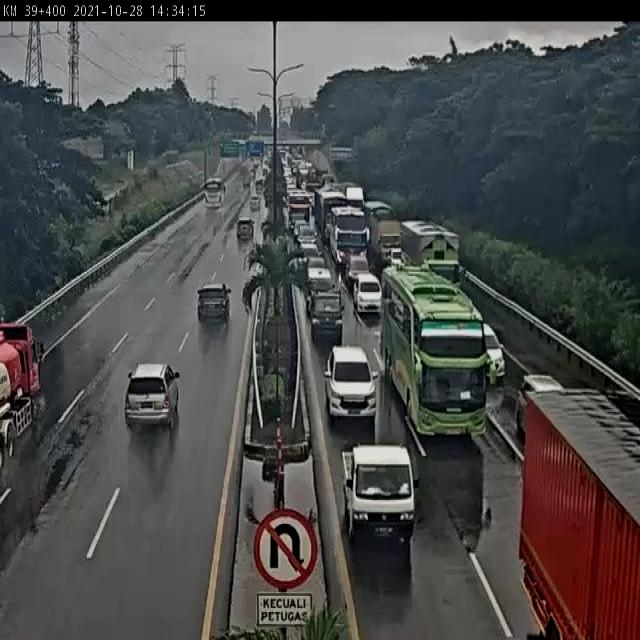Bus: (378, 265, 493, 439), (326, 206, 371, 266), (287, 189, 313, 231), (202, 176, 226, 209)
Car: (321, 342, 379, 421), (124, 362, 182, 431), (517, 373, 564, 441), (196, 282, 232, 323), (482, 322, 507, 381), (352, 273, 382, 316), (343, 252, 372, 295), (305, 255, 332, 286), (296, 242, 322, 264), (294, 224, 317, 244), (236, 216, 255, 240), (385, 248, 404, 268), (291, 220, 309, 241), (250, 190, 260, 211)
Truck: (517, 389, 640, 640), (341, 442, 417, 551), (0, 323, 42, 472), (401, 220, 458, 274), (306, 288, 344, 342), (368, 211, 404, 264), (314, 188, 351, 238), (362, 200, 393, 223), (344, 185, 366, 208)
